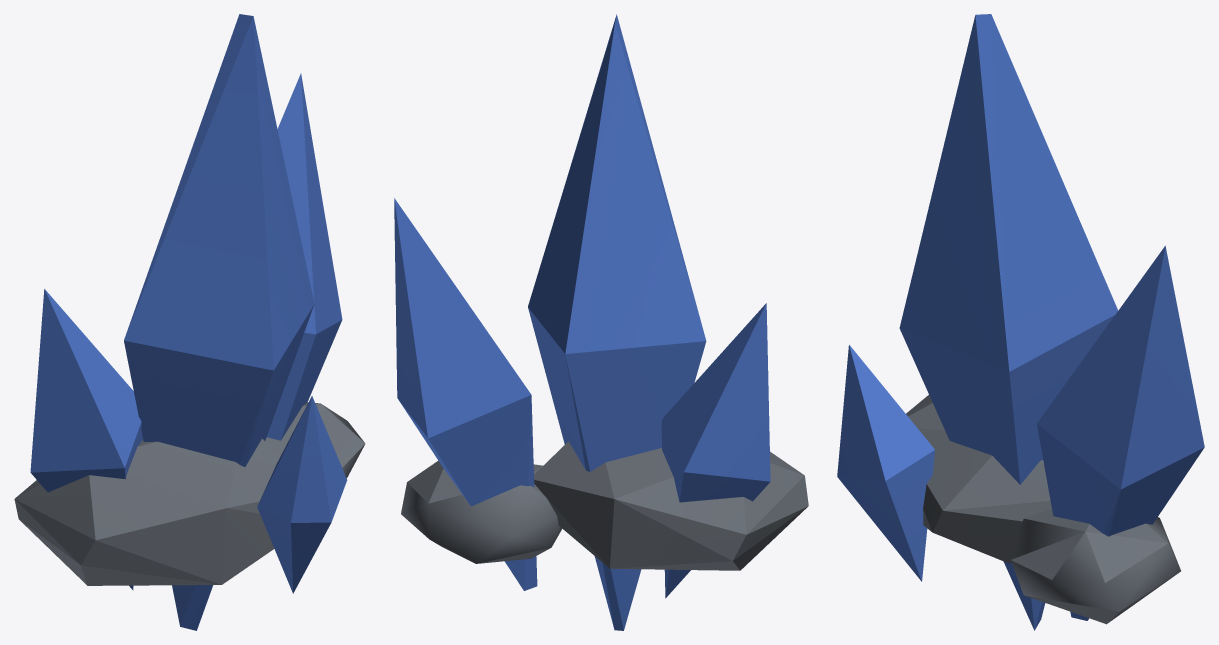
The model's file is prop_crystalC_lod2.glb.
3 renders of one model, left to right at view 1: azimuth 30°, elevation 25°; view 2: azimuth 150°, elevation 25°; view 3: azimuth 270°, elevation 25°, orthographic. The views are drawn at different scales.
Parts seen in each view (by area): view 1: prop_crystalC_lod2; view 2: prop_crystalC_lod2; view 3: prop_crystalC_lod2.
Part boxes in pixels (left/top/right/bottom): prop_crystalC_lod2: left=14, top=14, right=365, bottom=630; prop_crystalC_lod2: left=394, top=14, right=808, bottom=630; prop_crystalC_lod2: left=837, top=14, right=1204, bottom=630.
Size of the model in its own units: 0.6622 by 1.12 by 0.5937.
